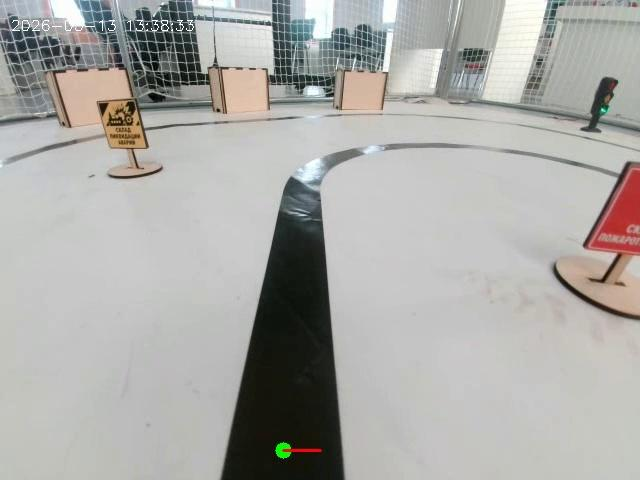industrial: (82, 88, 169, 196)
